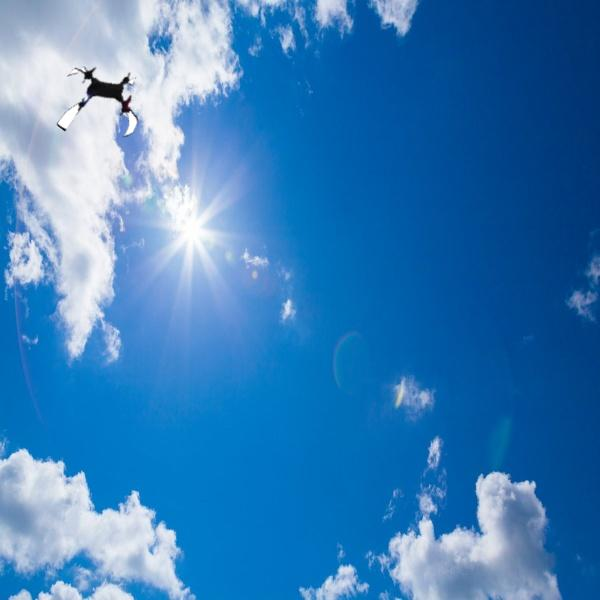drone: (57, 57, 149, 149)
